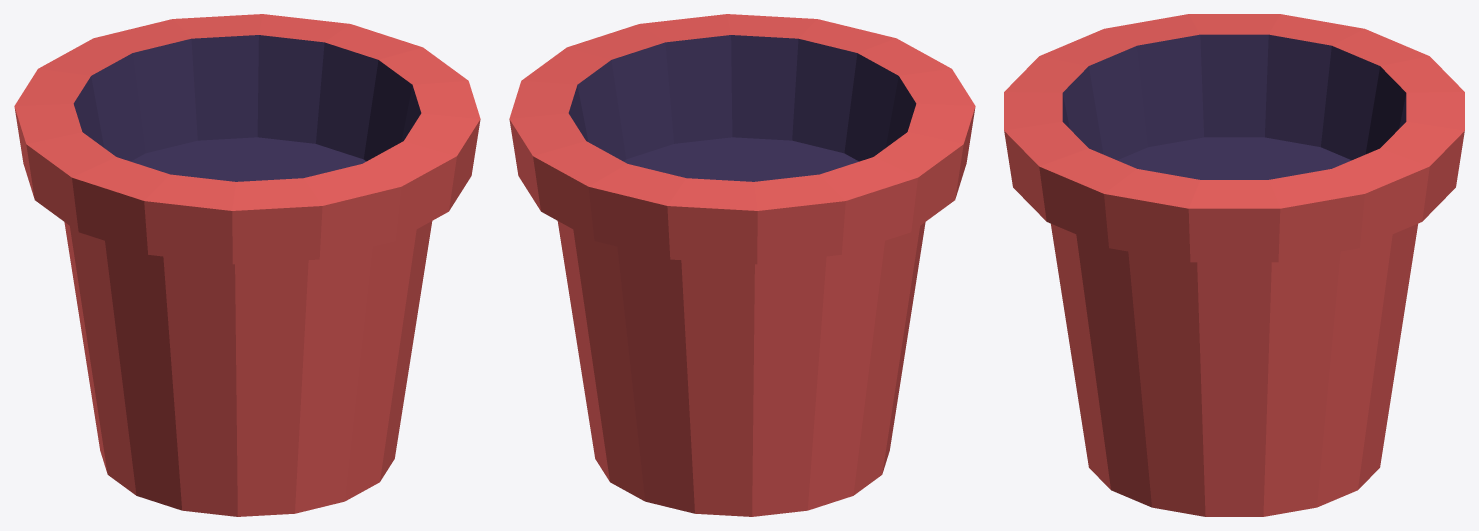
Rendered from vaso03.obj.
The picture shows the model from 3 angles, left to right: view 1: azimuth 30°, elevation 25°; view 2: azimuth 150°, elevation 25°; view 3: azimuth 270°, elevation 25°; orthographic projection.
Visible parts, largest first — view 1: Cylinder.007_Cylinder.008; view 2: Cylinder.007_Cylinder.008; view 3: Cylinder.007_Cylinder.008.
Part boxes in pixels (box(x1,y1,x2,y2)): Cylinder.007_Cylinder.008: box(14, 14, 480, 516); Cylinder.007_Cylinder.008: box(509, 14, 975, 516); Cylinder.007_Cylinder.008: box(1004, 14, 1464, 516).
Size of the model in its own units: 1.75 by 1.46 by 1.75.
